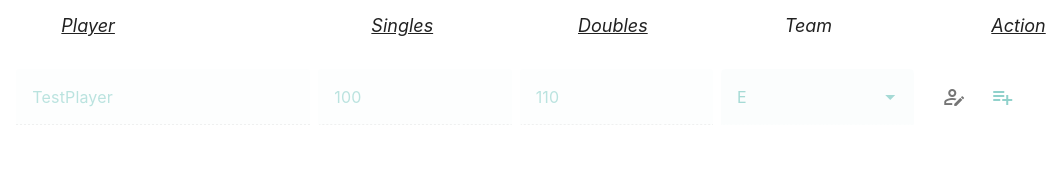
TablePlayers.vue › displays save and delete button for a player when edit is clicked
The image size is (1063, 172).
Step 1. Click the button with id "tablePlayersEdit" → (954, 97), box [930,73,978,121]
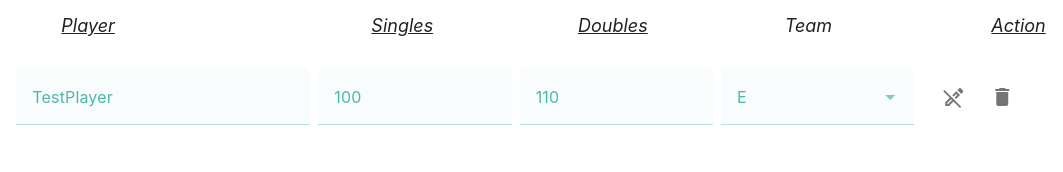
Check: the button with id "tablePlayersDelete" is shown, box [978,73,1026,121]
Check: the button with id "tablePlayersSave" is shown, box [930,73,978,121]
